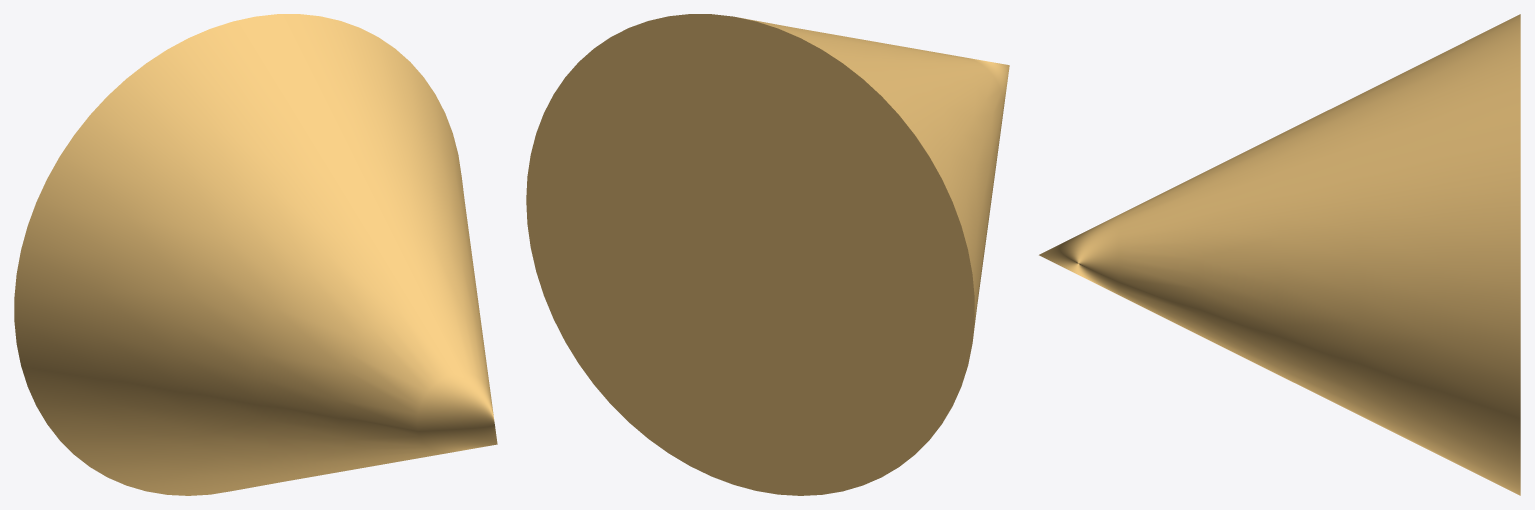
Rendered from loft-cone.glb.
3 views of the same model, side by side, from view 1: azimuth 30°, elevation 25°; view 2: azimuth 150°, elevation 25°; view 3: azimuth 270°, elevation 25° (orthographic). The views are drawn at different scales.
Visible parts, largest first — view 1: SOLID; view 2: SOLID; view 3: SOLID.
Part boxes in pixels (bbox=[...]): SOLID: bbox=[14, 14, 497, 495]; SOLID: bbox=[526, 14, 1009, 495]; SOLID: bbox=[1039, 14, 1520, 495].
Size of the model in its own units: 9.99 by 10 by 10.
